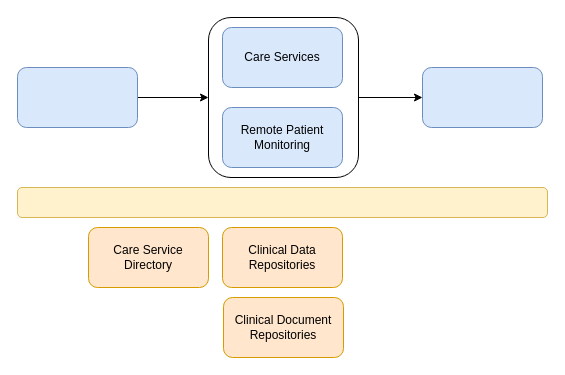
This 565x375 diagram has some shape labels left out. The centre of each missing label's shape, as x and y in pixels:
eReferral: point (77, 97)
eReport (Discharge): point (482, 97)
Health Information Exchange: point (282, 202)
